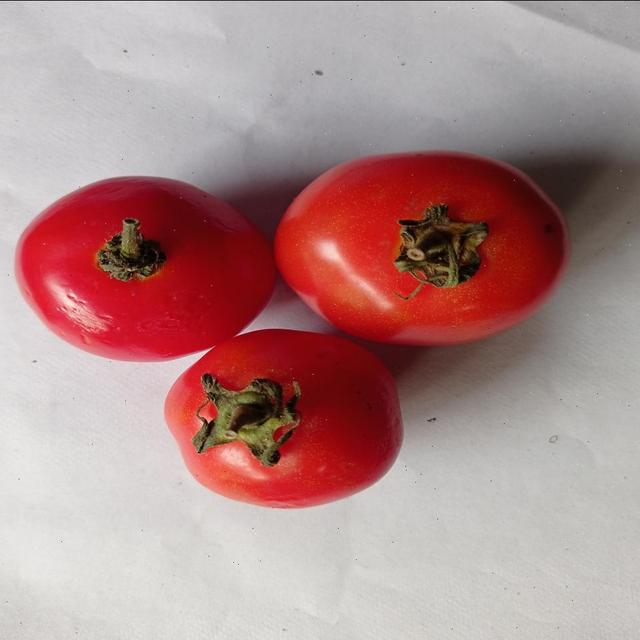Healthy Fruit: (96, 124, 282, 278)
